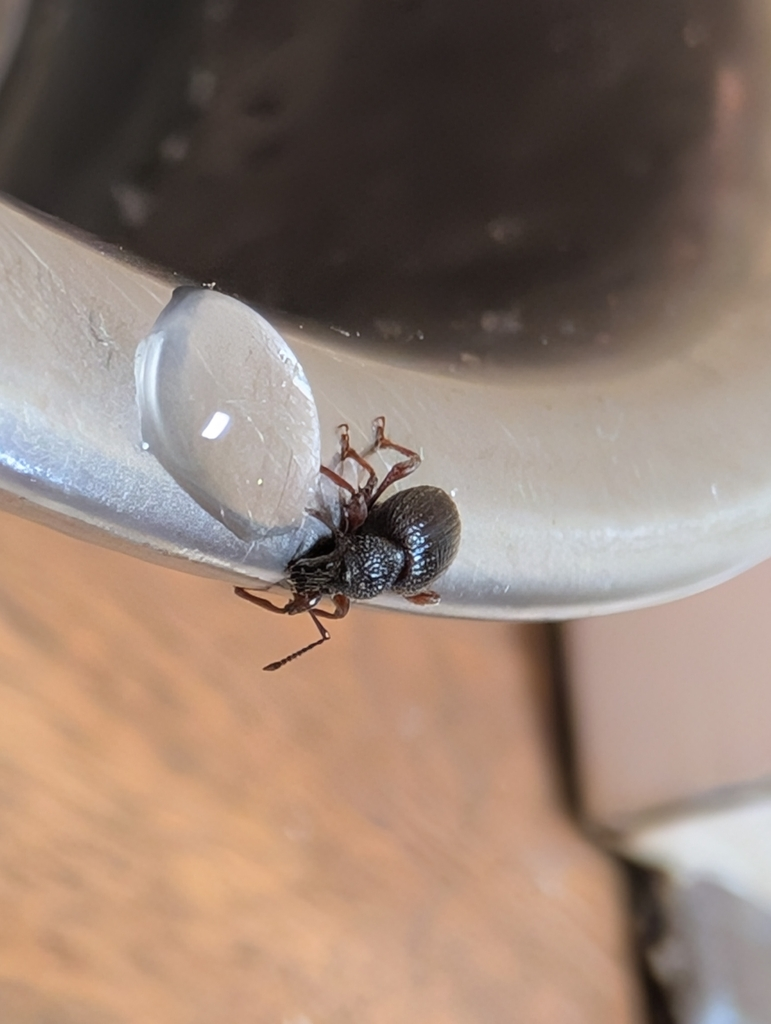weevils: (167, 353, 532, 724)
